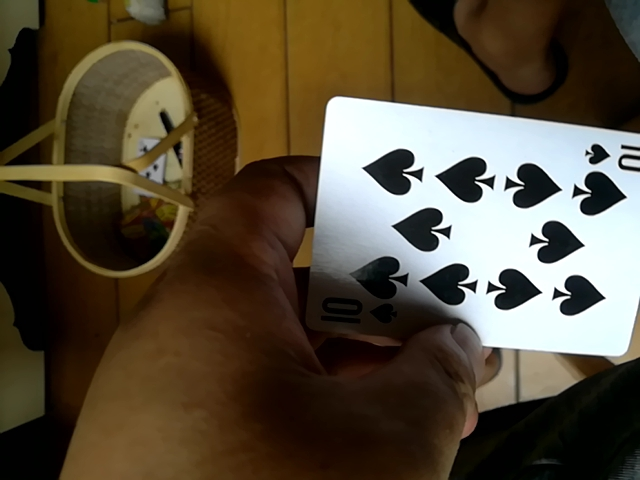ht 10: (314, 94, 640, 364)
